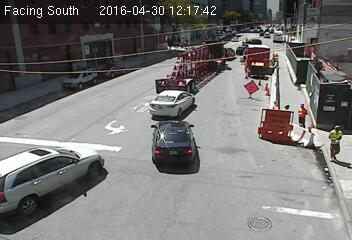neg: (158, 105, 181, 135), (83, 70, 99, 90), (169, 52, 182, 70)
pos: (319, 121, 349, 161), (290, 98, 313, 129)
